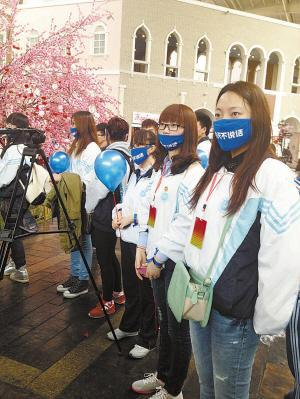OK: (213, 104, 255, 148)
WRONG: (158, 118, 188, 149), (70, 121, 84, 137)
